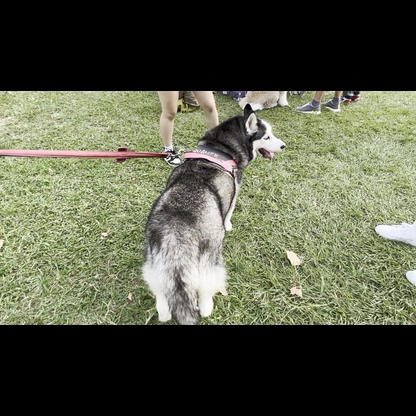husky: (132, 103, 290, 321)
